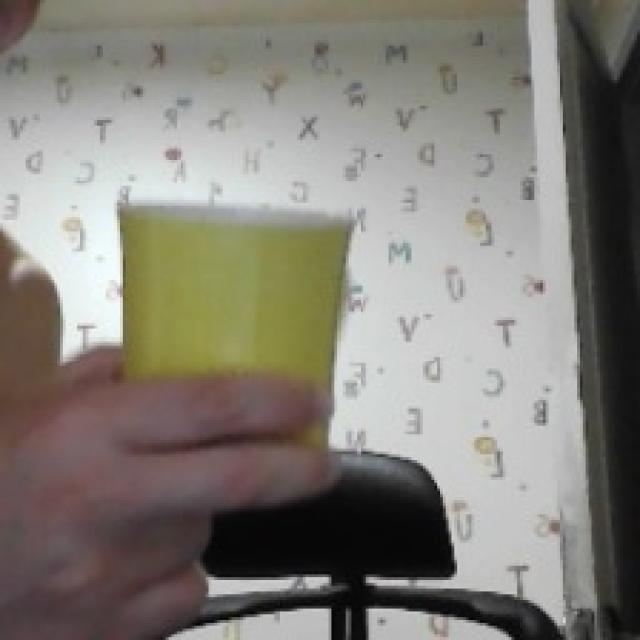cup: (120, 206, 349, 383)
